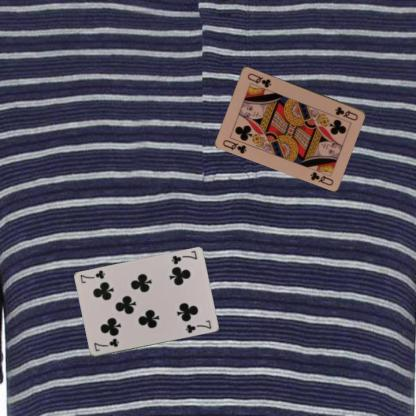7c: (169, 248, 198, 266), (91, 336, 120, 352)
Qc: (220, 137, 249, 155), (333, 104, 359, 122)
